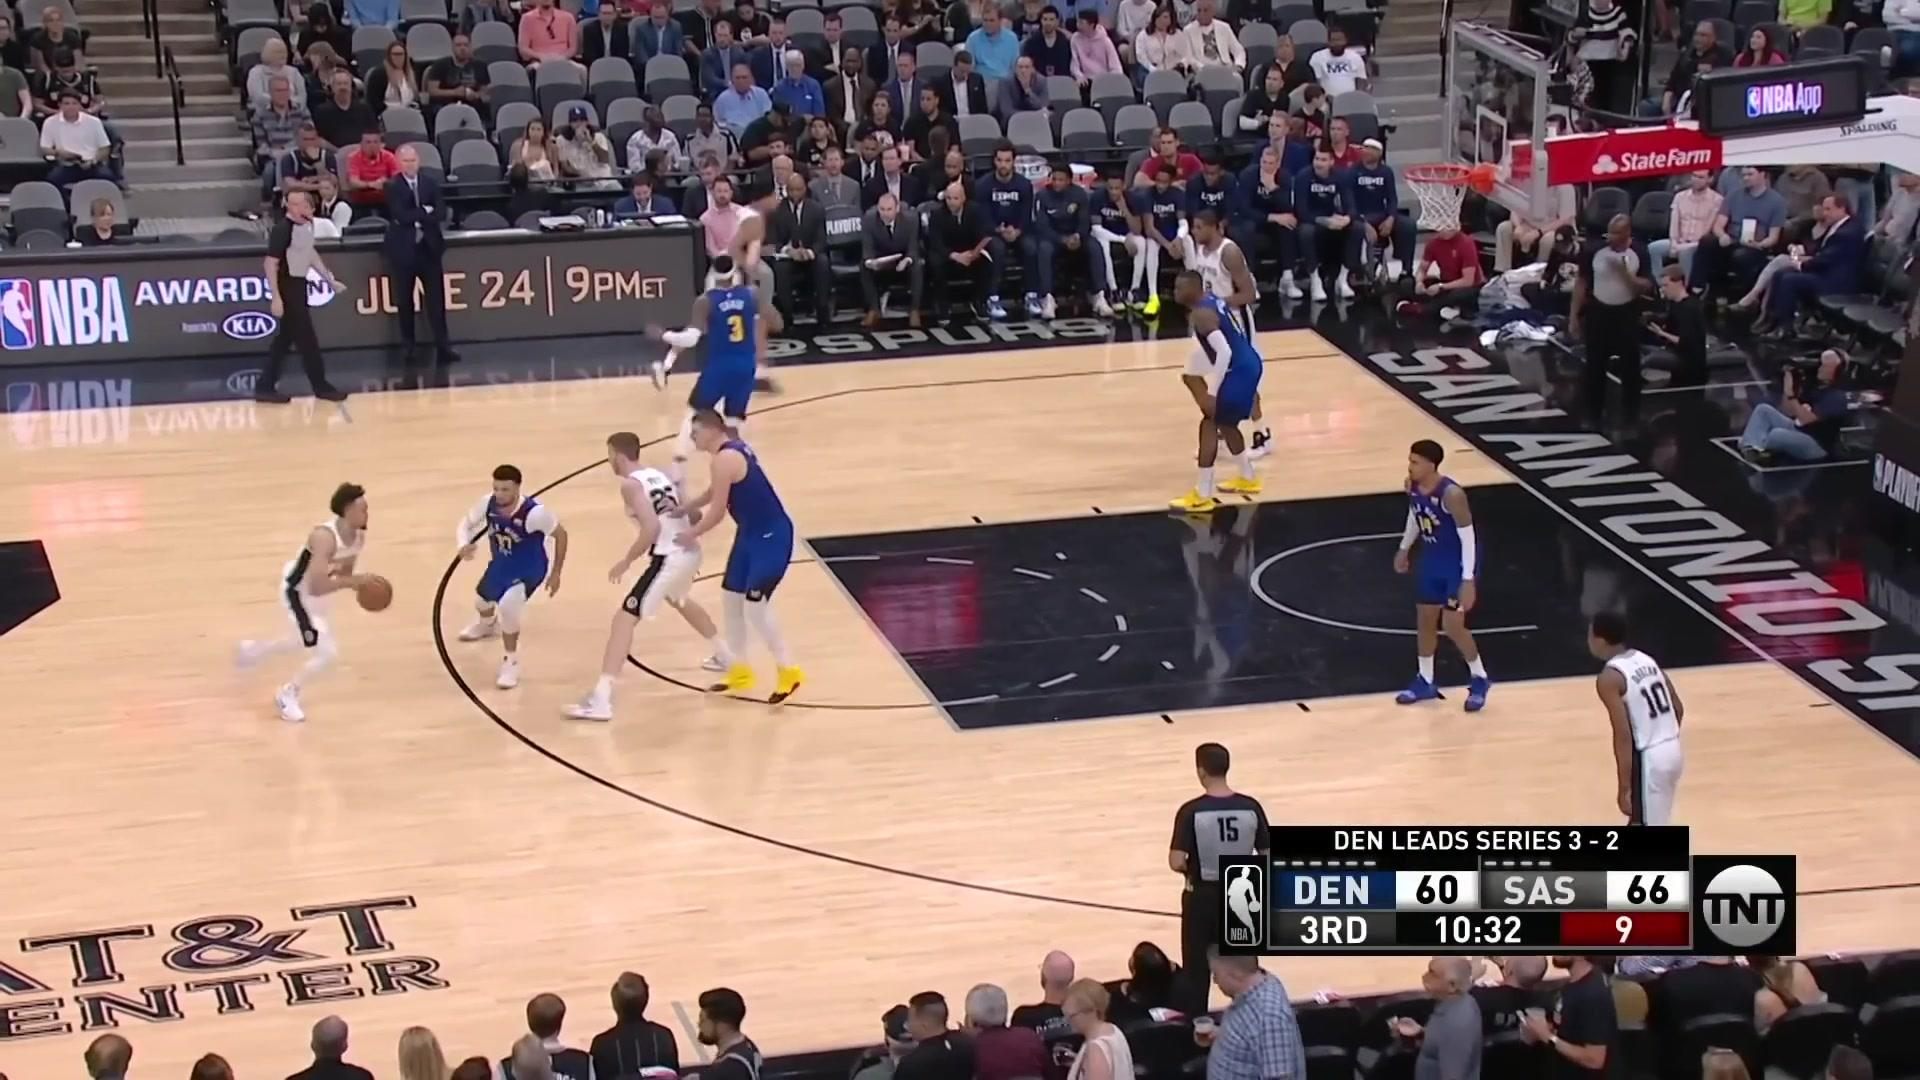foul: (575, 435, 814, 716)
